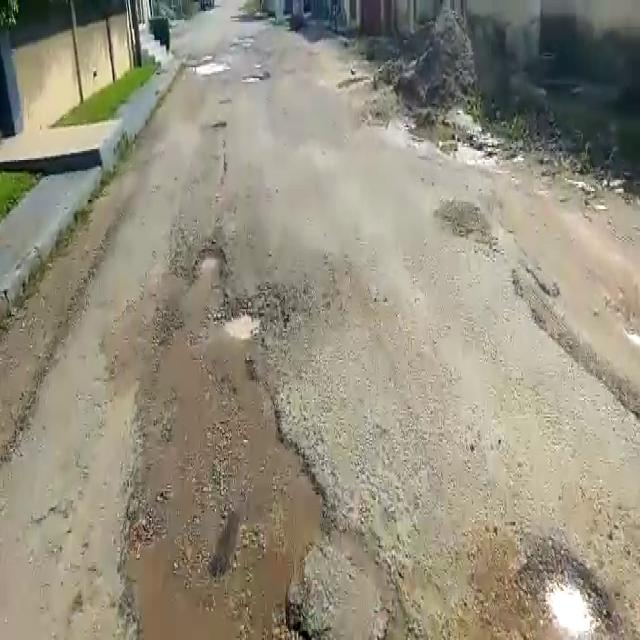Pothole: (518, 538, 616, 638), (224, 290, 296, 356), (190, 244, 230, 284)
